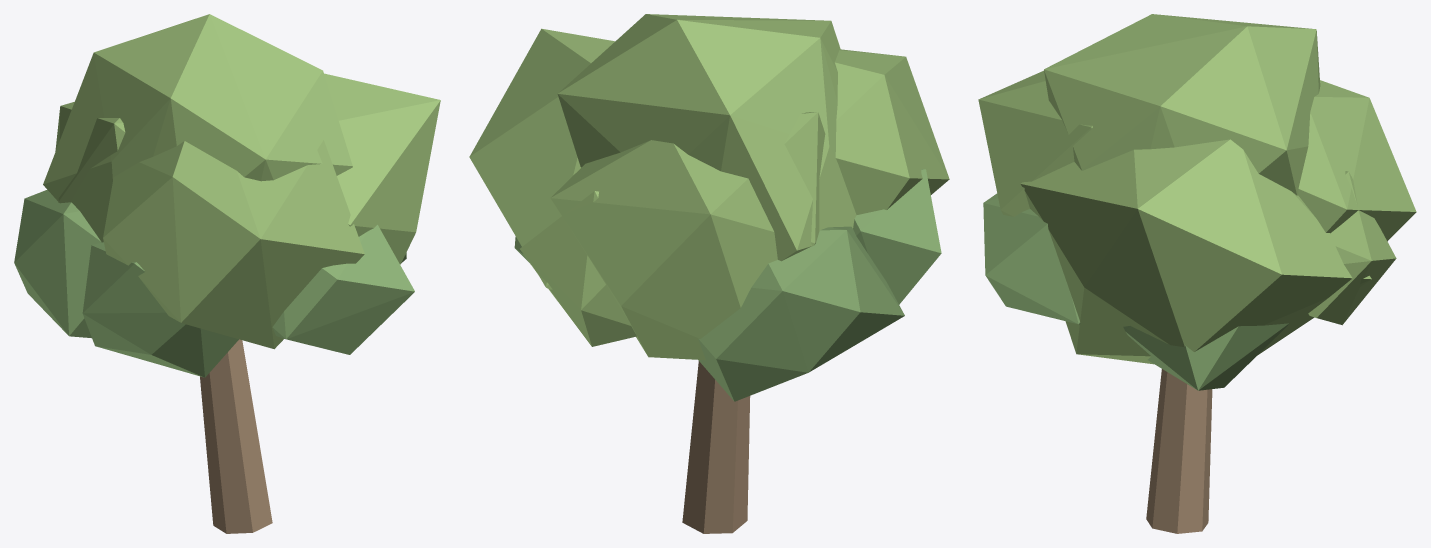
File: tree_gen3.glb
The picture shows the model from 3 angles, left to right: view 1: azimuth 30°, elevation 25°; view 2: azimuth 150°, elevation 25°; view 3: azimuth 270°, elevation 25°; orthographic projection. The views are drawn at different scales.
Parts seen in each view (by area): view 1: hull; view 2: hull; view 3: hull.
Boxes of the visible parts, <box> form: hull: <box>14,14,440,533</box>; hull: <box>469,14,949,533</box>; hull: <box>978,14,1416,533</box>.
Size of the model in its own units: 5.67 by 7.25 by 5.76.
